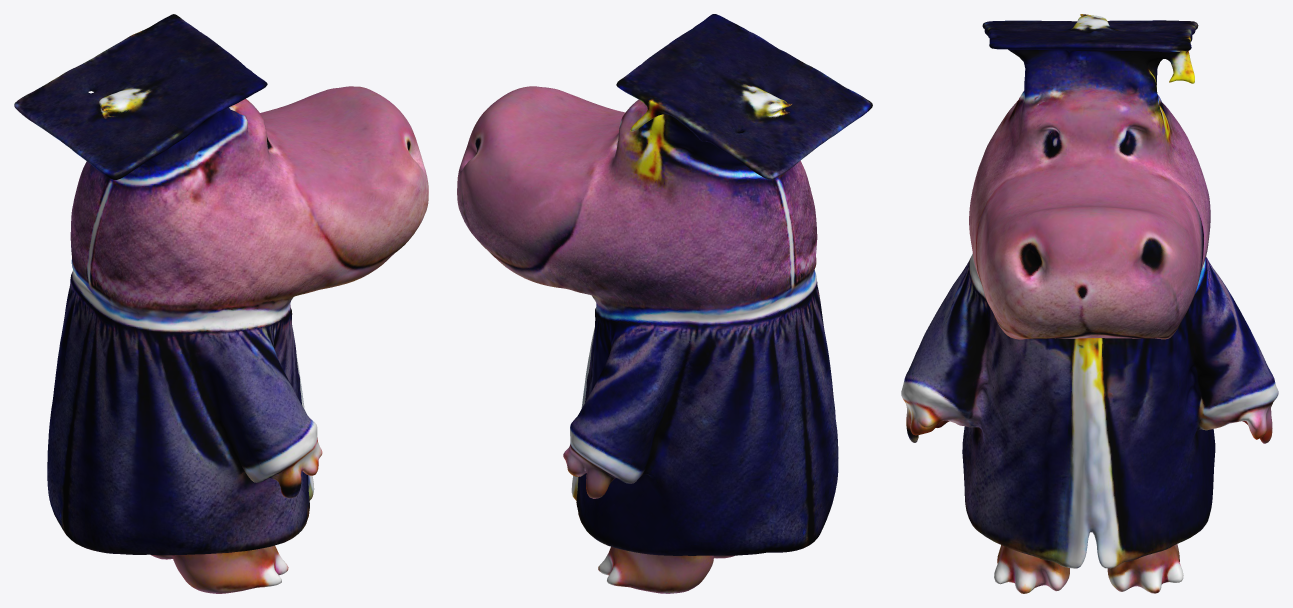
File: hippo_sample.glb
The picture shows the model from 3 angles, left to right: view 1: azimuth 30°, elevation 25°; view 2: azimuth 150°, elevation 25°; view 3: azimuth 270°, elevation 25°; orthographic projection. The views are drawn at different scales.
Visible parts, largest first — view 1: geometry_0; view 2: geometry_0; view 3: geometry_0.
Boxes of the visible parts, box(x1,y1,x2,y2) form: geometry_0: box(14, 14, 428, 593); geometry_0: box(457, 14, 872, 593); geometry_0: box(901, 14, 1278, 593).
Size of the model in its own units: 0.4051 by 0.5715 by 0.3636.
Materials: 1 (1 with a texture image).
